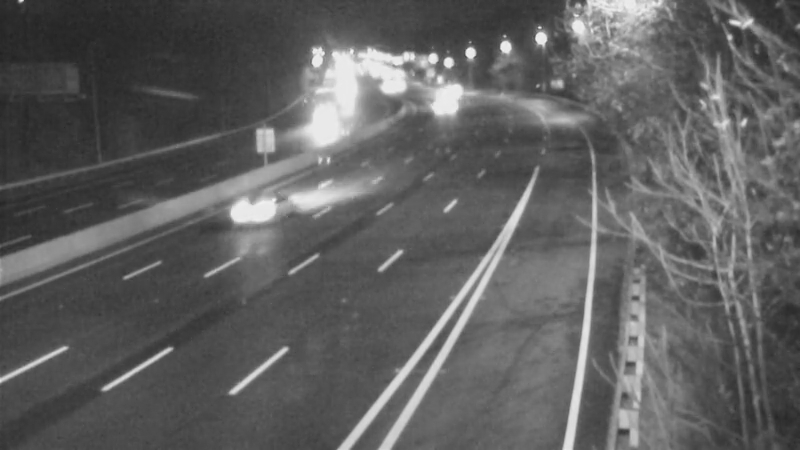vehicle: (212, 169, 292, 249), (416, 80, 466, 130), (307, 107, 357, 157)
